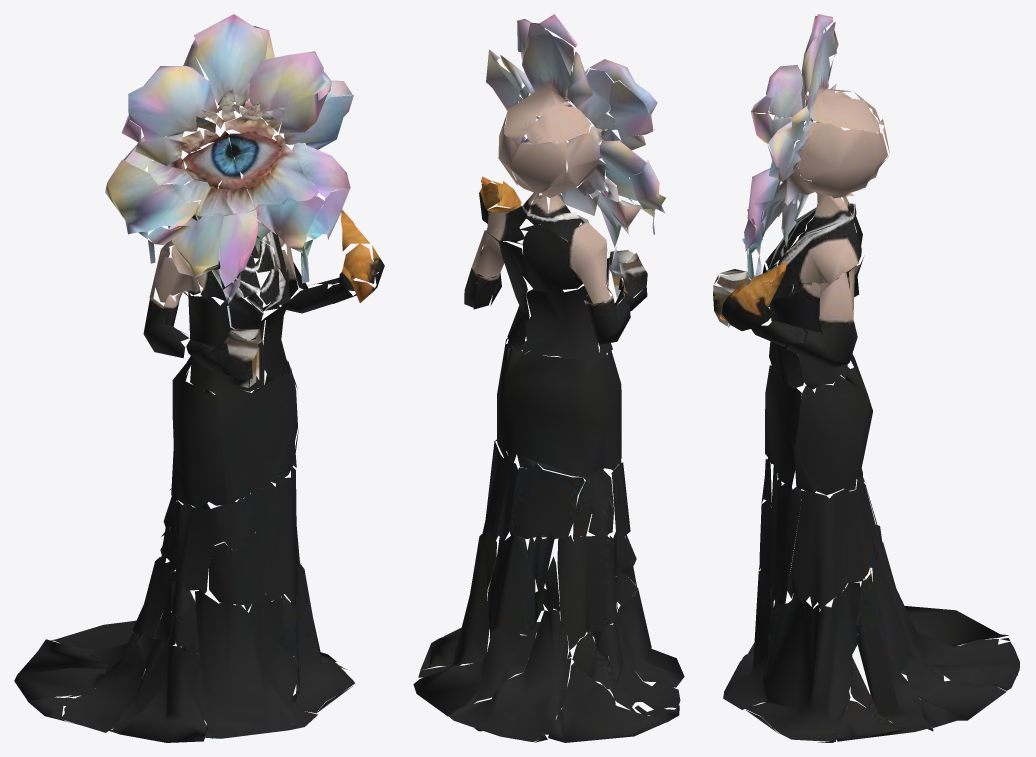
File: crowd_gown_full.glb
The picture shows the model from 3 angles, left to right: view 1: azimuth 30°, elevation 25°; view 2: azimuth 150°, elevation 25°; view 3: azimuth 270°, elevation 25°; orthographic projection. The views are drawn at different scales.
Visible parts, largest first — view 1: tripo_node_620514dc-a435-4403-84fe-d3314a613aa5; view 2: tripo_node_620514dc-a435-4403-84fe-d3314a613aa5; view 3: tripo_node_620514dc-a435-4403-84fe-d3314a613aa5.
Part boxes in pixels (x1,y1,x2,y2): tripo_node_620514dc-a435-4403-84fe-d3314a613aa5: [14, 14, 384, 742]; tripo_node_620514dc-a435-4403-84fe-d3314a613aa5: [413, 14, 684, 742]; tripo_node_620514dc-a435-4403-84fe-d3314a613aa5: [713, 14, 1019, 742].
Size of the model in its own units: 0.4215 by 1 by 0.4131.
1 material, 1 textured.
